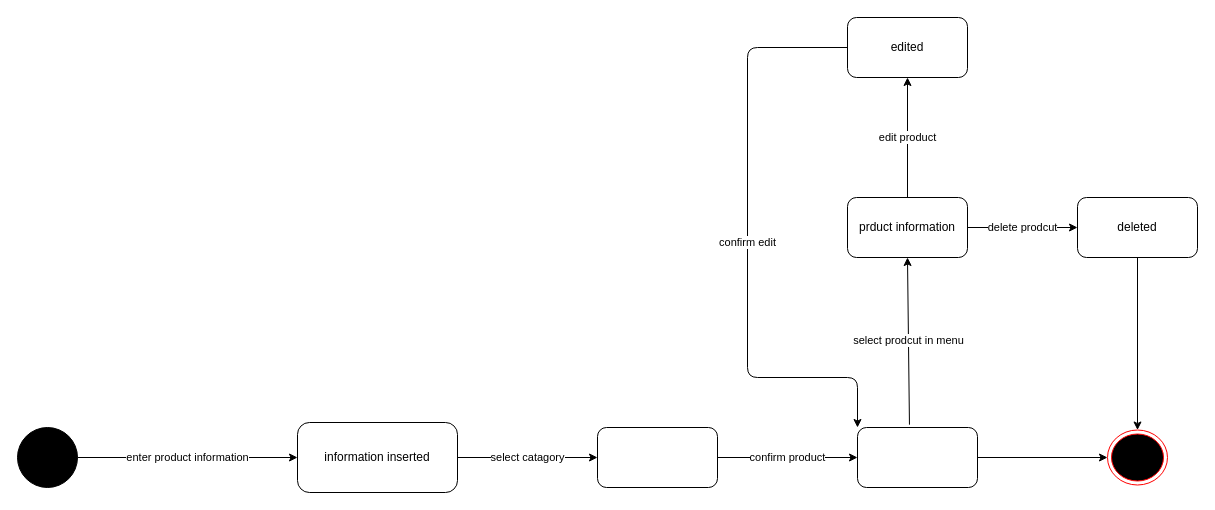
The diagram is 1215 pixels wide and 510 high, and some of its shapes have lost their labels. Here are the shapes that lost their labels. From the top down, the box of each, then its label:
(596, 426, 718, 488): catagory set
(856, 426, 978, 488): set product in menu
